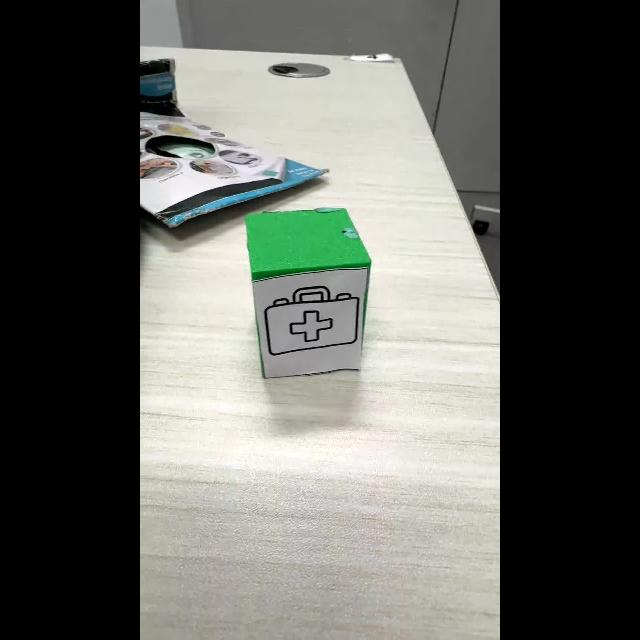Medkit: (264, 287, 359, 356)
